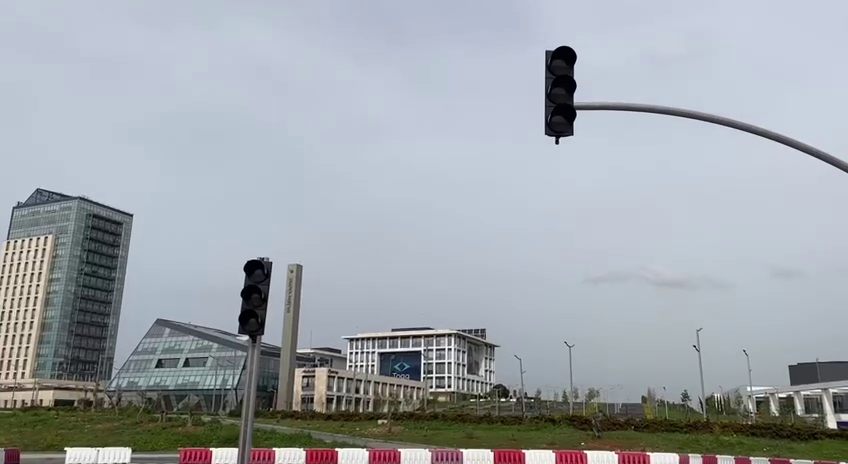trafficLight: (539, 40, 581, 146), (235, 253, 275, 340)
